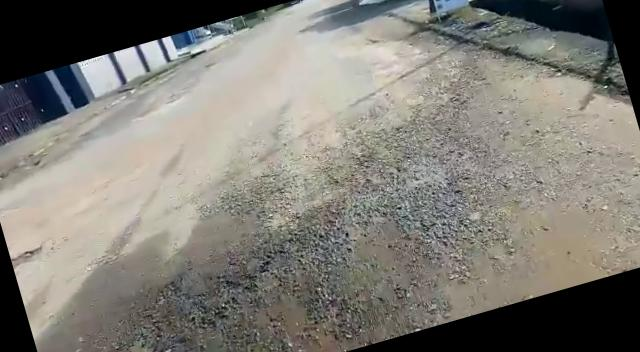pothole: (76, 330, 176, 352)
